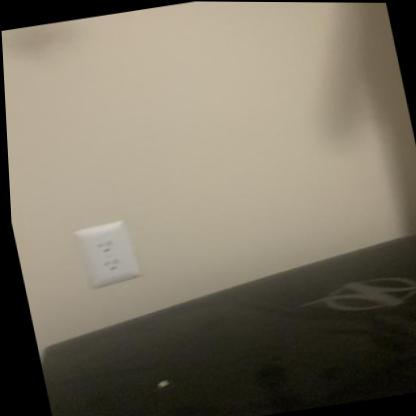OUTLET: (75, 219, 140, 286)
